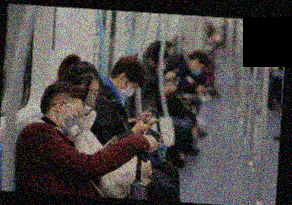with_mask: (61, 104, 85, 139), (81, 87, 99, 117), (117, 82, 139, 100), (192, 63, 205, 76)
